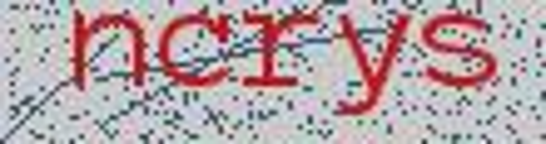c: (157, 5, 231, 94)
n: (62, 6, 151, 93)
r: (237, 7, 324, 94)
s: (416, 8, 502, 102)
y: (330, 7, 414, 124)
